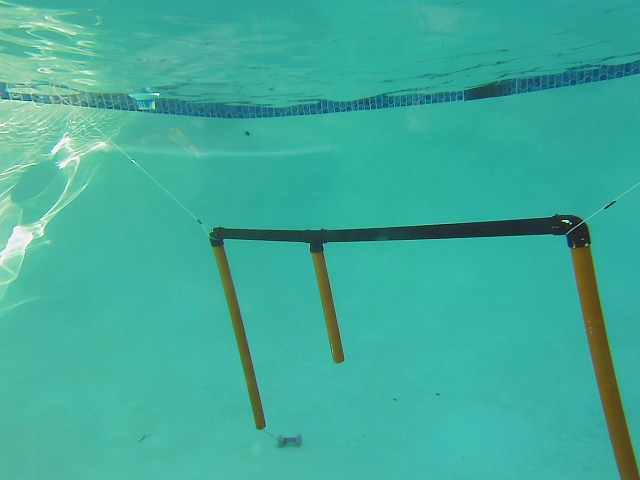Gate: (565, 241, 639, 480), (210, 243, 267, 435), (306, 244, 347, 369)
